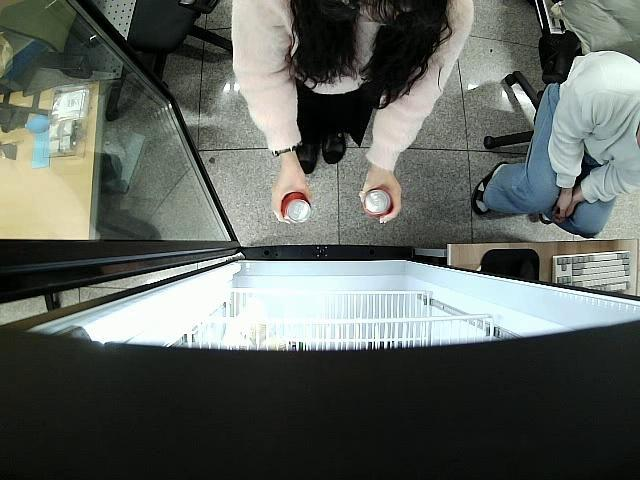11_cocaColaZero: (281, 192, 312, 224), (362, 188, 393, 219)
